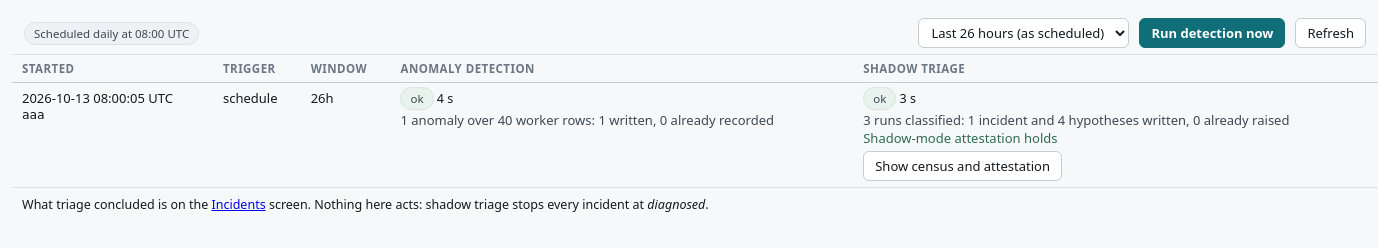
Test: DetectionScreen › starts the task over the chosen window and reloads
This screenshot has width=1378, height=248.
expect the text "1 anomaly over 40 worker rows: 1 written, 0 already recorded" is shown: met, box [400,111,774,129]
Select "Last 30 days" in the dropdown named "Window to judge": (1024, 33) [918,18,1129,48]
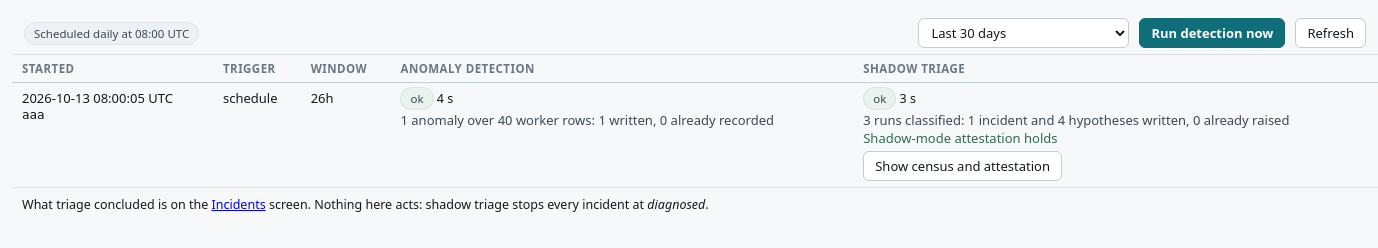
Click the button "Run detection now": (1212, 33) [1139,18,1285,48]
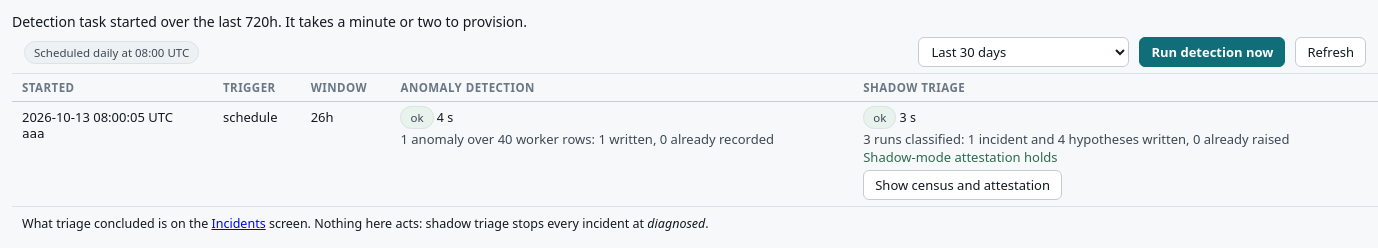
expect the text with test id "banner" shows "Detection task started over the last 720h": met, box [12,12,527,31]
